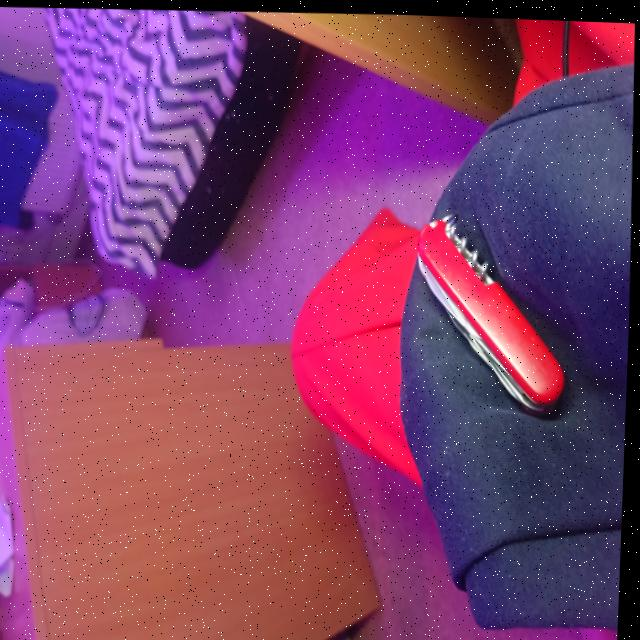knife victorinox: (420, 211, 566, 407)
